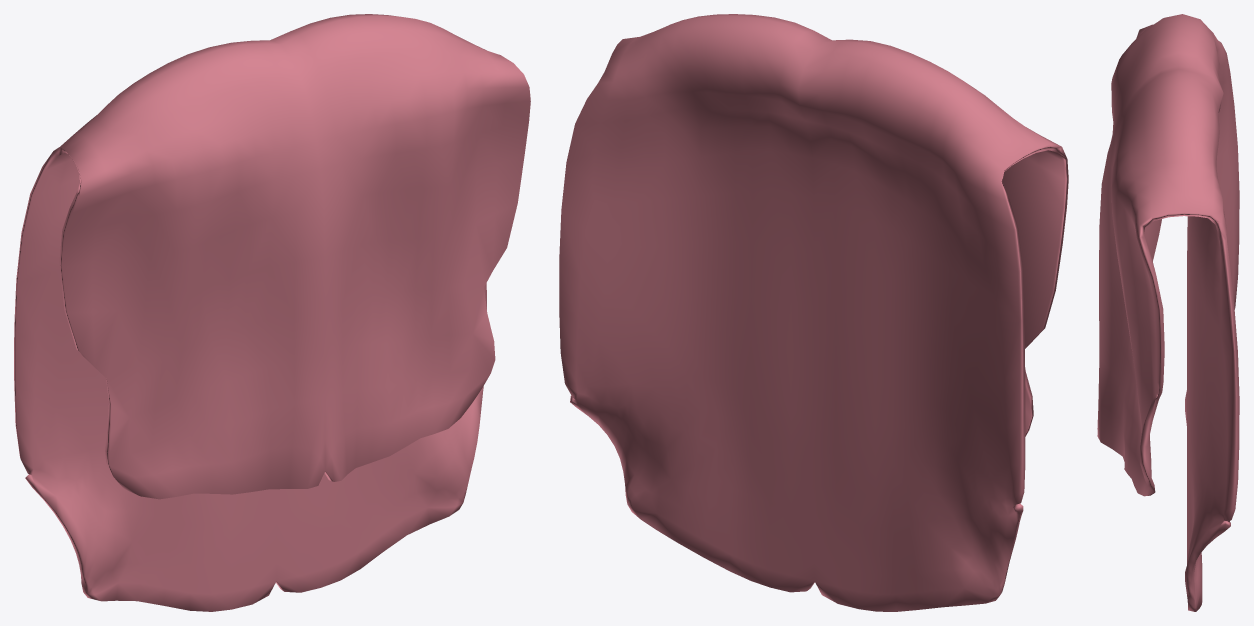
3 views of the same model, side by side, from view 1: azimuth 30°, elevation 25°; view 2: azimuth 150°, elevation 25°; view 3: azimuth 270°, elevation 25° (orthographic). The views are drawn at different scales.
Visible parts, largest first — view 1: 软腭; view 2: 软腭; view 3: 软腭.
Boxes of the visible parts, box(x1,y1,x2,y2) form: 软腭: box(14, 14, 530, 611); 软腭: box(559, 14, 1068, 611); 软腭: box(1097, 14, 1239, 611).
Bounding box in the file's own units: 0.052 × 0.0598 × 0.015.
